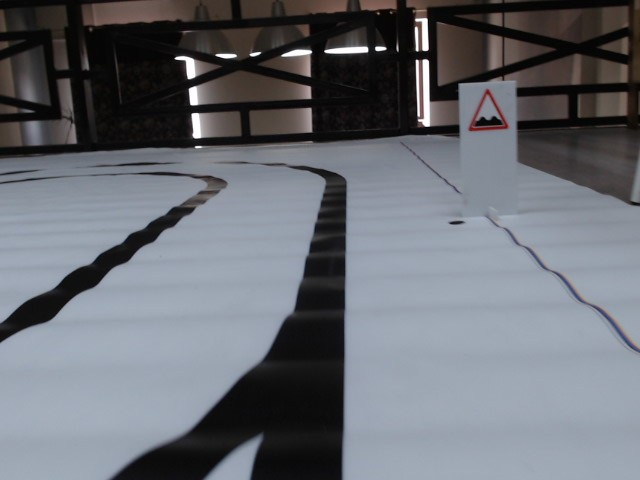Nerov: (466, 89, 511, 134)
